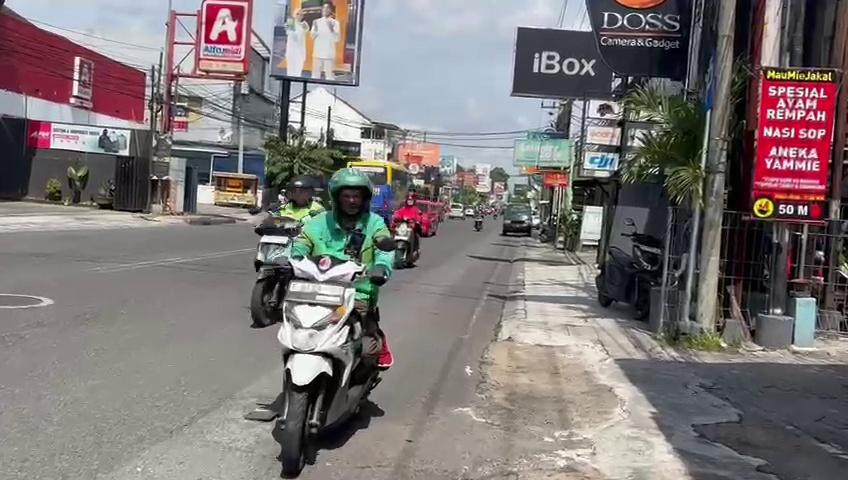helm: (323, 164, 375, 224), (283, 173, 318, 212)
riding: (272, 160, 406, 479)
